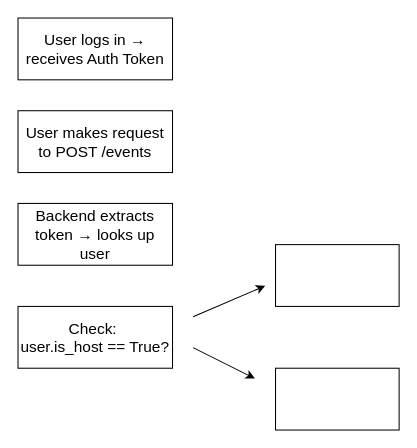
Some shapes in this 417 by 448 pixel diagram are drawn without their labels. Here are the shapes that lost their labels. From the top down, the centre of each, then its label:
At (336,275): "YES → allow event creation (201 Created)".
At (336,398): "NO → return 403 Forbidden".
